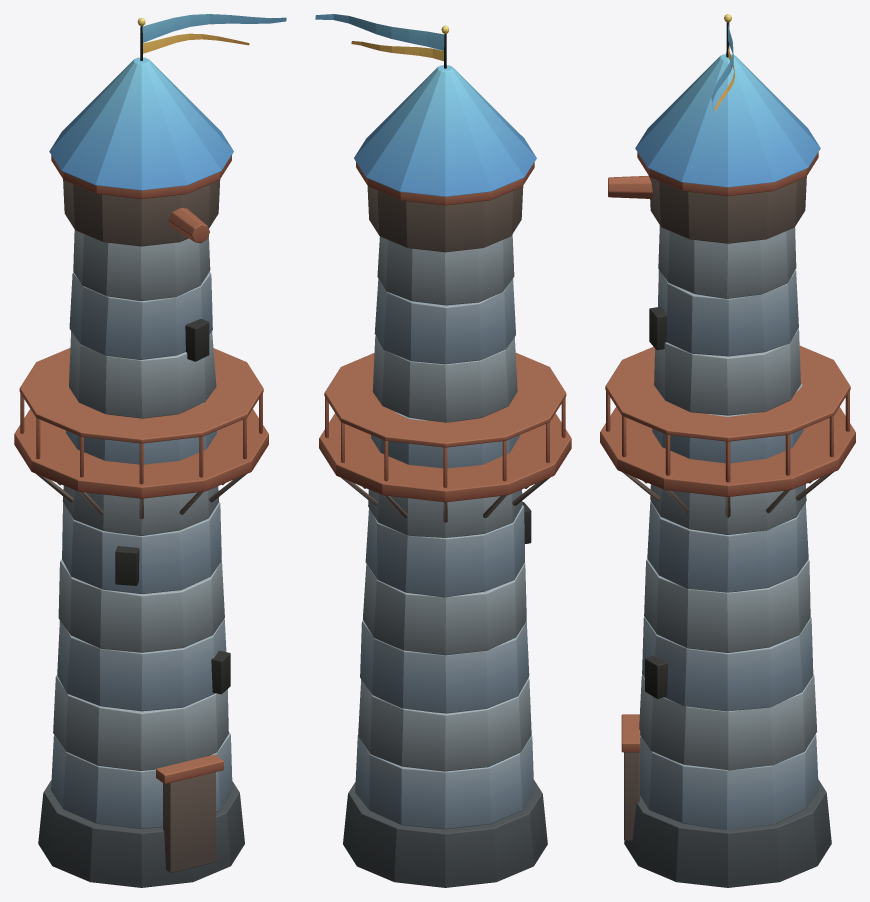
File: sail_tower.glb
3 renders of one model, left to right at view 1: azimuth 30°, elevation 25°; view 2: azimuth 150°, elevation 25°; view 3: azimuth 270°, elevation 25°, orthographic.
Visible parts, largest first — view 1: sail_tower; view 2: sail_tower; view 3: sail_tower.
Part boxes in pixels (x1,y1,x2,y2): sail_tower: [14, 14, 286, 887]; sail_tower: [315, 14, 571, 887]; sail_tower: [600, 14, 855, 887].
Bounding box in the file's own units: 5.4 × 17.18 × 4.8.
1 material, 1 textured.
